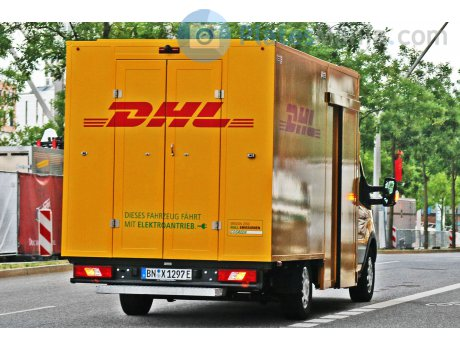License Plates: (145, 265, 190, 277)
